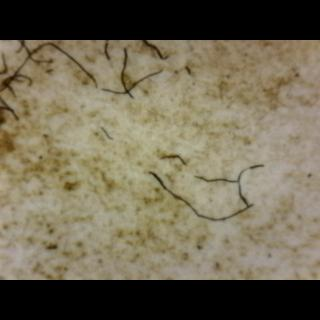Microplastic: (148, 168, 256, 225), (114, 50, 164, 102), (156, 146, 192, 174)
